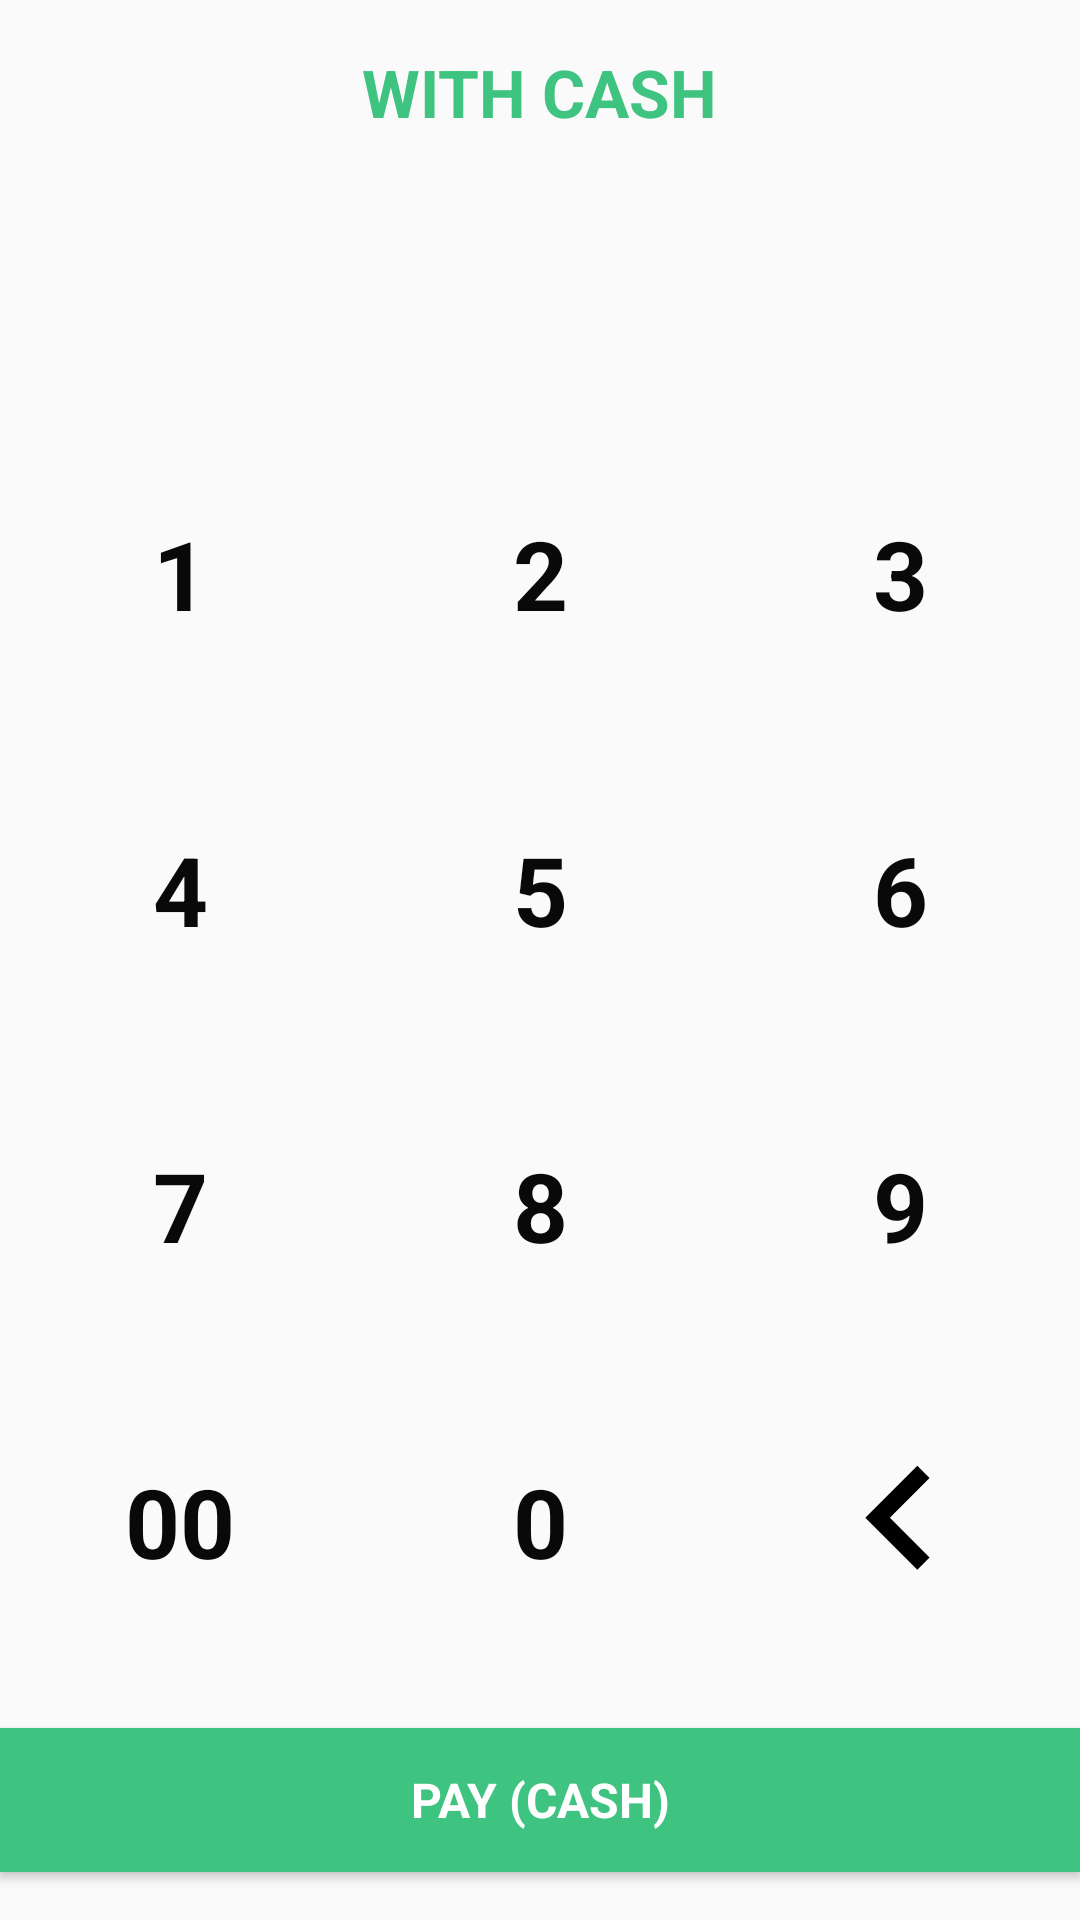

Named icons in this screenshot (1080 x 1920) and their centers, [x,y]:
keyboard arrow left: [897,1518]
